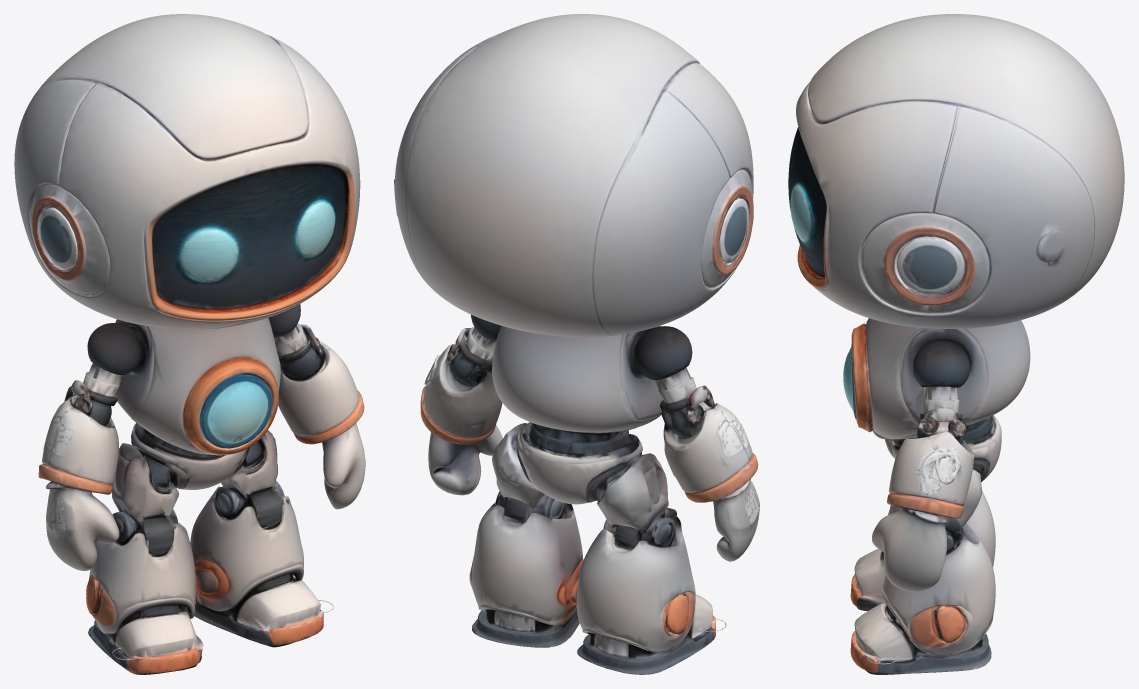
Rendered from butler3d.glb.
The picture shows the model from 3 angles, left to right: view 1: azimuth 30°, elevation 25°; view 2: azimuth 150°, elevation 25°; view 3: azimuth 270°, elevation 25°; orthographic projection. The views are drawn at different scales.
Visible parts, largest first — view 1: node_0; view 2: node_0; view 3: node_0.
Part boxes in pixels (<box>): node_0: <box>14,14,365,674</box>; node_0: <box>394,14,759,674</box>; node_0: <box>788,14,1124,674</box>.
Size of the model in its own units: 0.6194 by 1.11 by 0.5645.
Materials: 1 (1 with a texture image).
